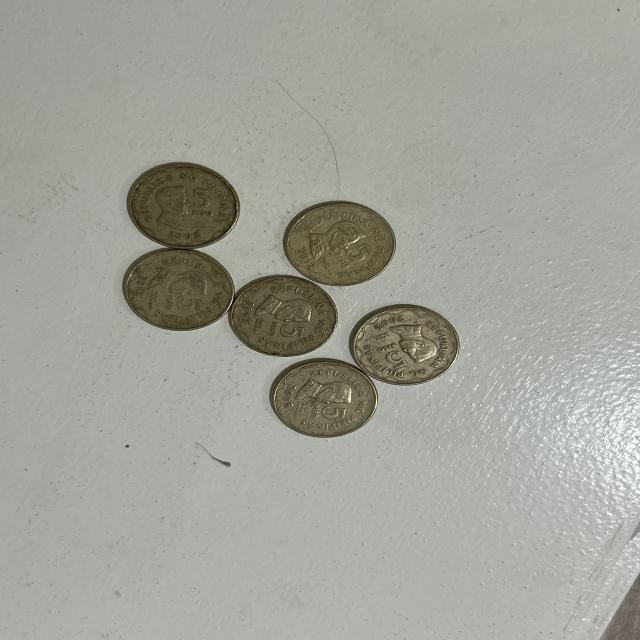5_Old_Front: (184, 187, 222, 226), (370, 340, 413, 373), (162, 290, 208, 319), (328, 244, 376, 268), (262, 319, 306, 344), (306, 406, 354, 420)
